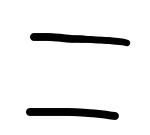eqv: (24, 29, 131, 121)
